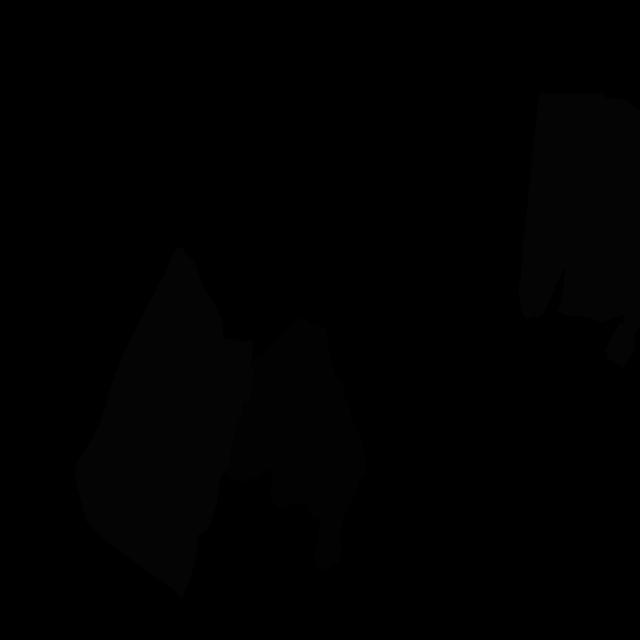cardboard: (225, 317, 366, 571)
soft_plastic: (75, 247, 254, 598), (518, 93, 640, 368)
